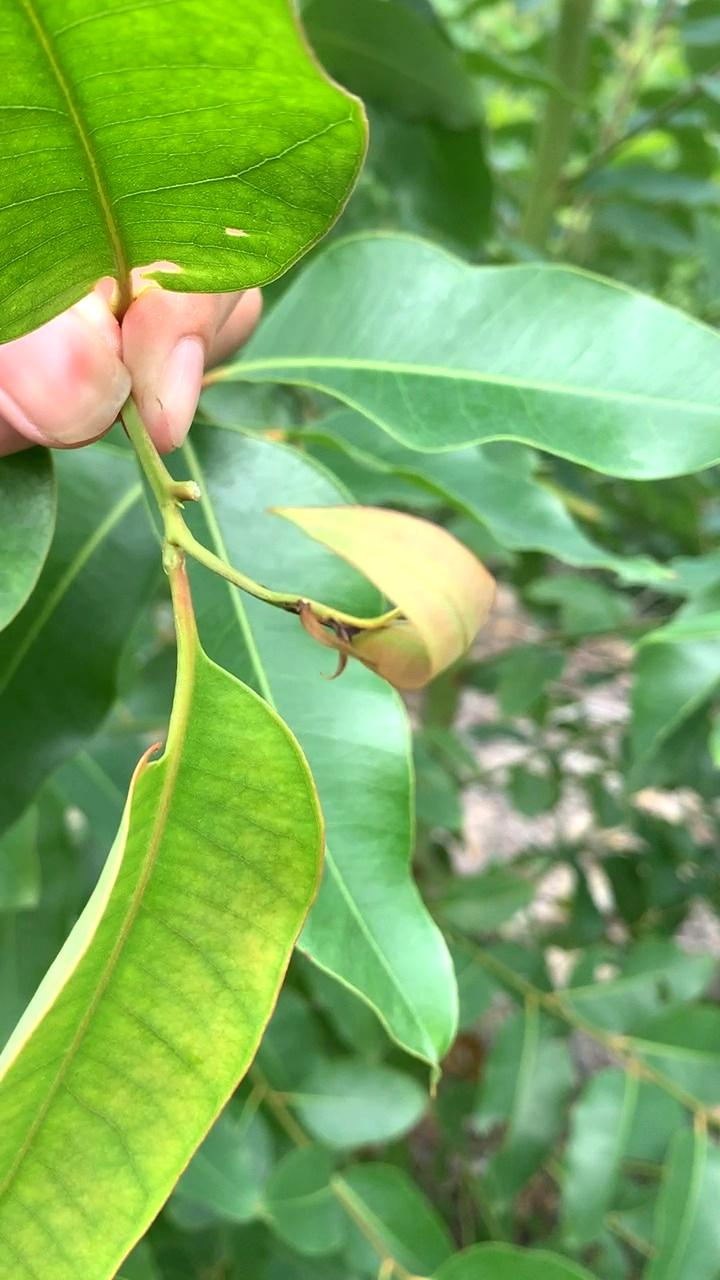Helopeltis-Withered Sprout: (285, 498, 495, 693)
